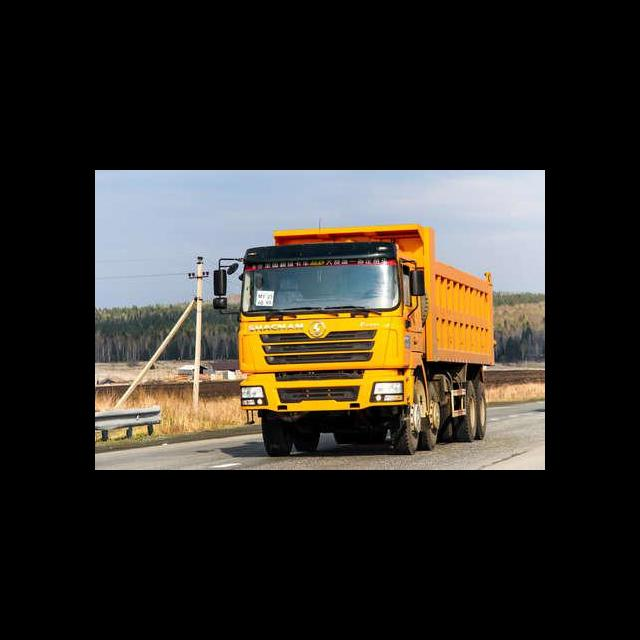dump truck: (213, 213, 495, 459)
